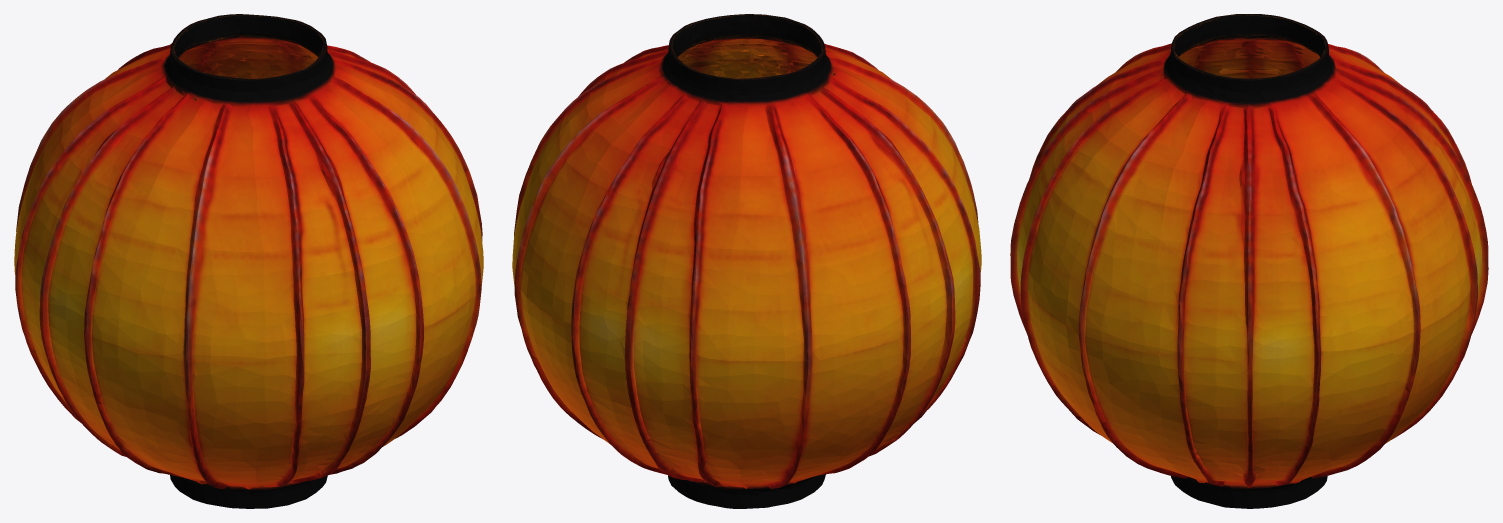
The model's file is lantern.glb.
The picture shows the model from 3 angles, left to right: view 1: azimuth 30°, elevation 25°; view 2: azimuth 150°, elevation 25°; view 3: azimuth 270°, elevation 25°; orthographic projection.
Parts seen in each view (by area): view 1: world; view 2: world; view 3: world.
Boxes of the visible parts, x1,y1,x2,y2 form: world: (14, 14, 483, 508); world: (512, 14, 981, 508); world: (1010, 14, 1488, 508).
Bounding box in the file's own units: 0.9991 × 0.9915 × 0.9994.
Materials: 1 (1 with a texture image).
